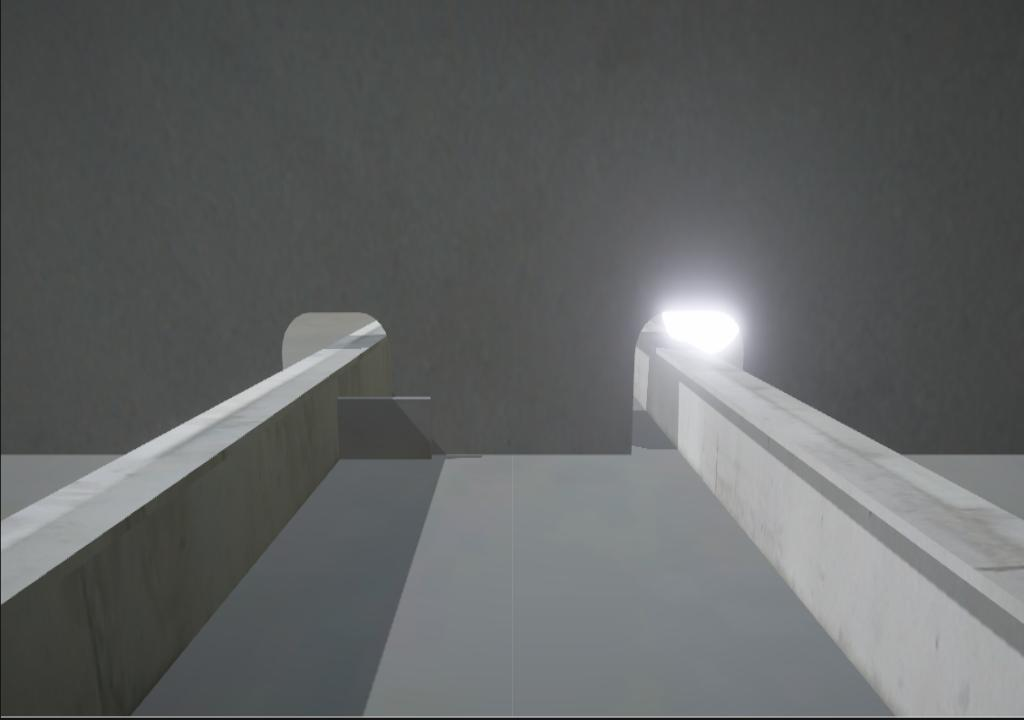fillet_yong_jeop_jang: (434, 448, 635, 461)
plate_CP01: (338, 397, 433, 460)
